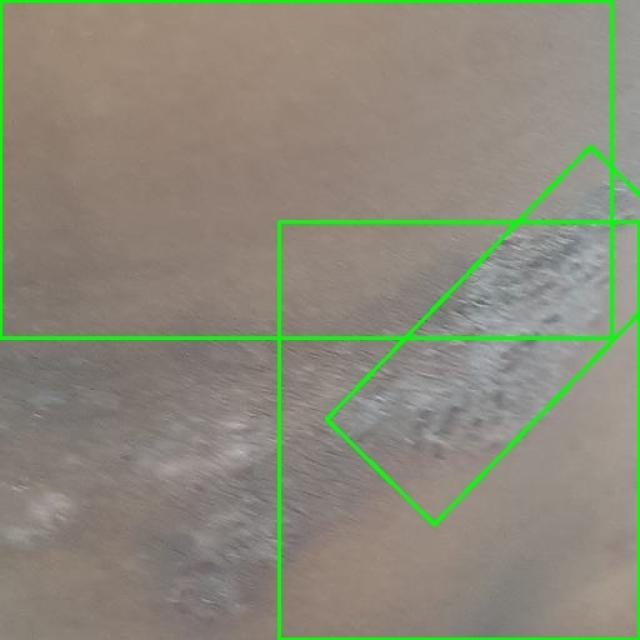Eczema: (0, 0, 611, 338), (279, 221, 639, 639), (326, 147, 640, 525)
